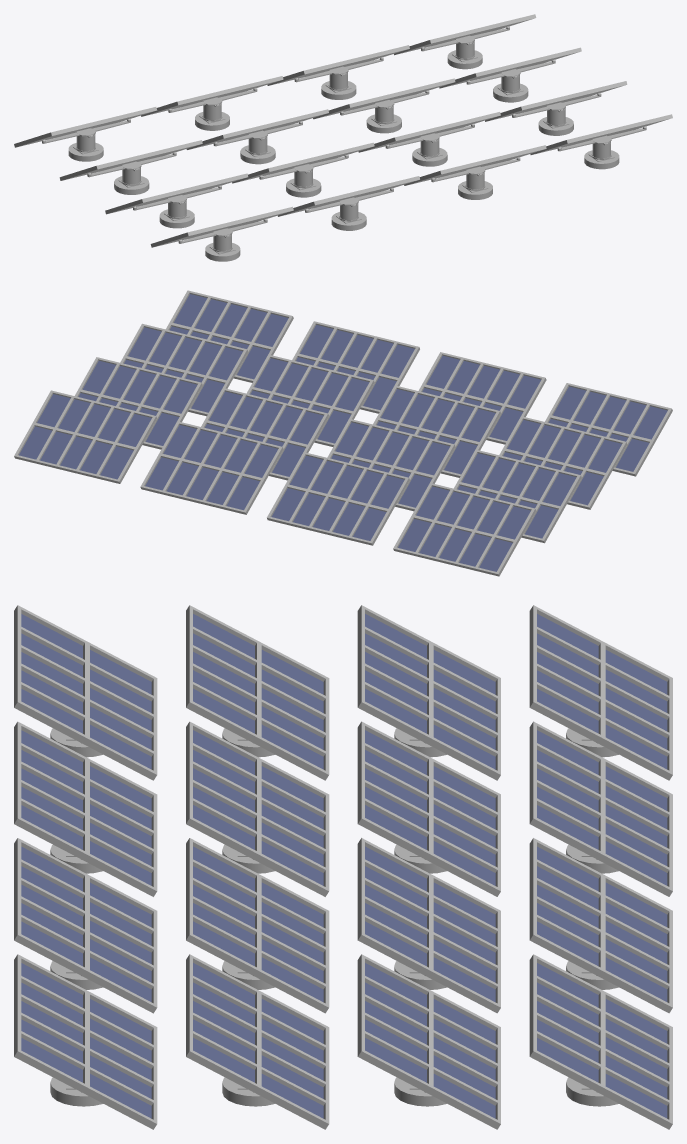
The model's file is solarPanel.fbx.
The picture shows the model from 3 angles, top to bottom: view 1: azimuth 30°, elevation 25°; view 2: azimuth 150°, elevation 25°; view 3: azimuth 270°, elevation 25°; orthographic projection. The views are drawn at different scales.
Parts seen in each view (by area): view 1: pCylinder9; view 2: pCylinder9; view 3: pCylinder9.
Part boxes in pixels (x1=…): pCylinder9: x1=14, y1=14, x2=672, y2=261; pCylinder9: x1=14, y1=290, x2=672, y2=576; pCylinder9: x1=14, y1=605, x2=672, y2=1129.
Size of the model in its own units: 24.89 by 2.34 by 15.54.
